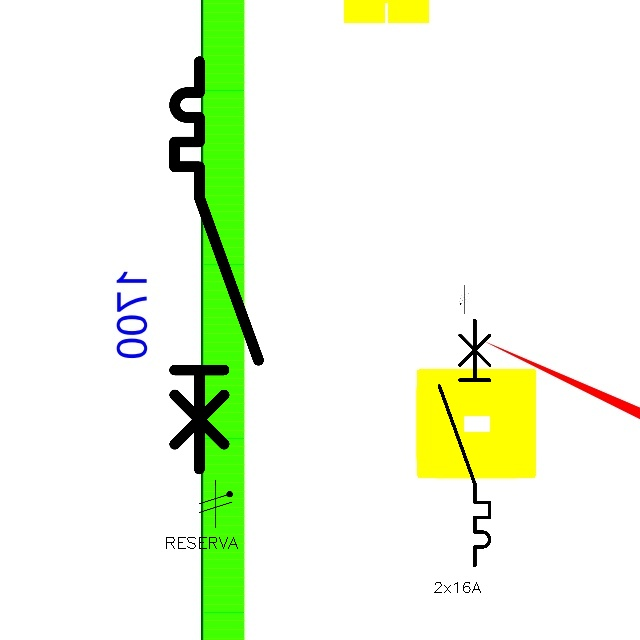interruptor_termomagnetico: (164, 51, 269, 479), (433, 314, 496, 572)
